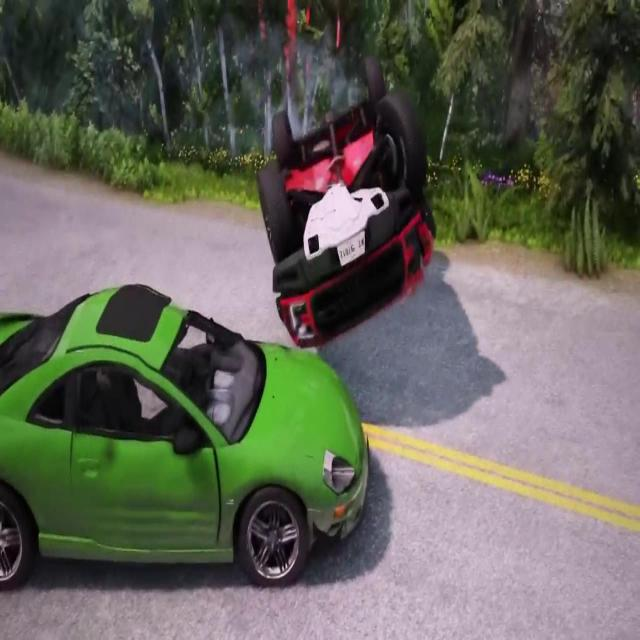accident: (252, 31, 442, 351)
